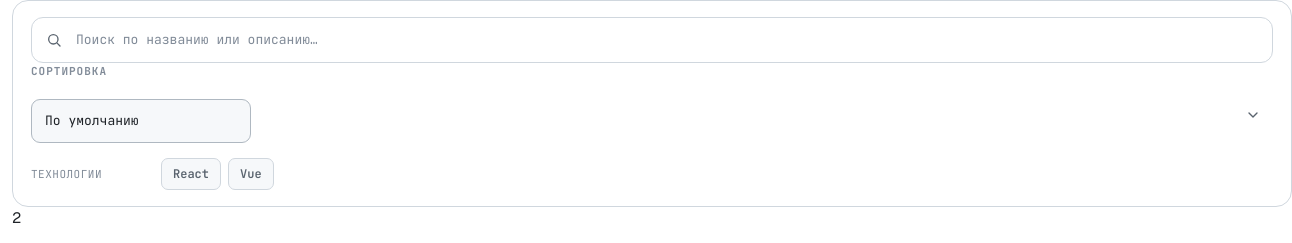
ProjectFilterBar › переключает чип технологии и сужает список
The width and height of the screenshot is (1292, 243).
Click the button "Vue": (251, 174) [228,158,274,190]
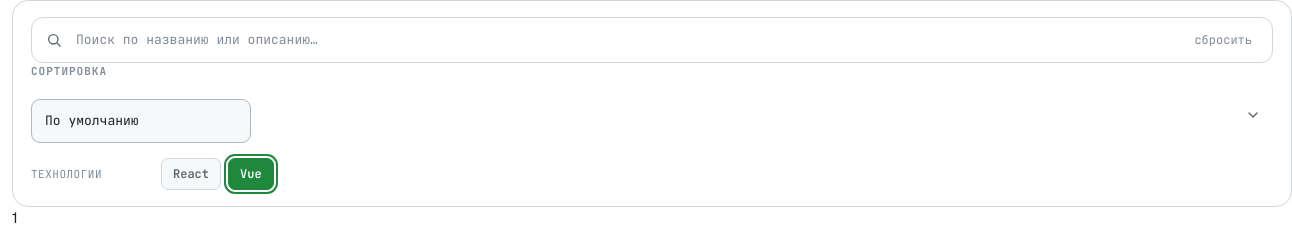
Expected: the text with test id "count" reads "1", [12,208,18,226]
